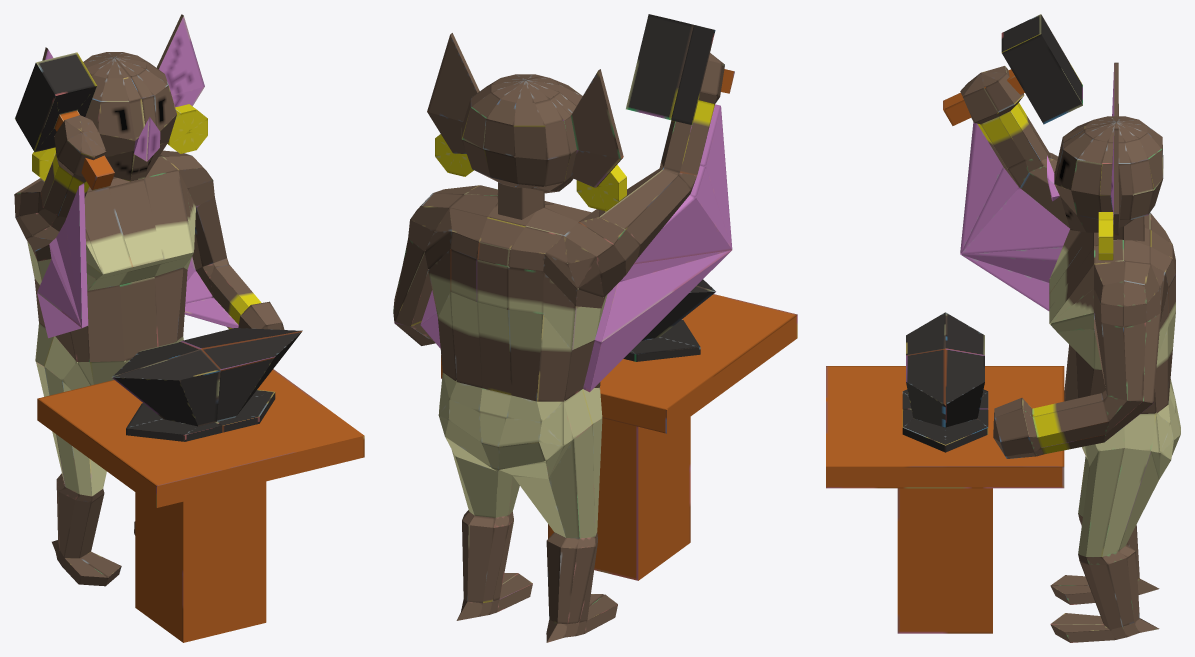
Rendered from glittersnout.obj.
3 renders of one model, left to right at view 1: azimuth 30°, elevation 25°; view 2: azimuth 150°, elevation 25°; view 3: azimuth 270°, elevation 25°, orthographic. The views are drawn at different scales.
Parts seen in each view (by area): view 1: body, wood, anvil, head, hammer, earrings; view 2: body, wood, head, hammer, anvil, earrings, neck; view 3: body, wood, head, anvil, hammer, earrings, neck.
Boxes of the visible parts, x1,y1,x2,y2 form: body: (14,115,284,586); wood: (37,369,364,642); anvil: (112,328,302,441); head: (42,14,204,181); hammer: (15,52,114,190); earrings: (32,104,207,180); body: (393,53,732,642); wood: (441,294,797,580); head: (427,33,623,193); hammer: (626,14,734,125); anvil: (623,279,715,361); earrings: (435,134,626,211); neck: (497,182,544,219); body: (960,66,1180,642); wood: (826,366,1064,633); head: (1047,62,1163,235); anvil: (902,312,988,452); hammer: (943,14,1082,125); earrings: (1098,212,1113,260); neck: (1113,195,1144,241).
Size of the model in its own units: 0.4267 by 0.9542 by 0.5633.
Materials: 1 (1 with a texture image).
